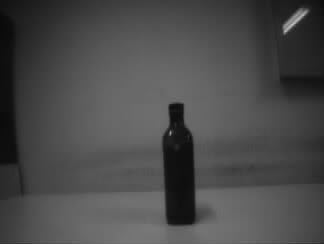Bottle: (162, 102, 196, 226)
